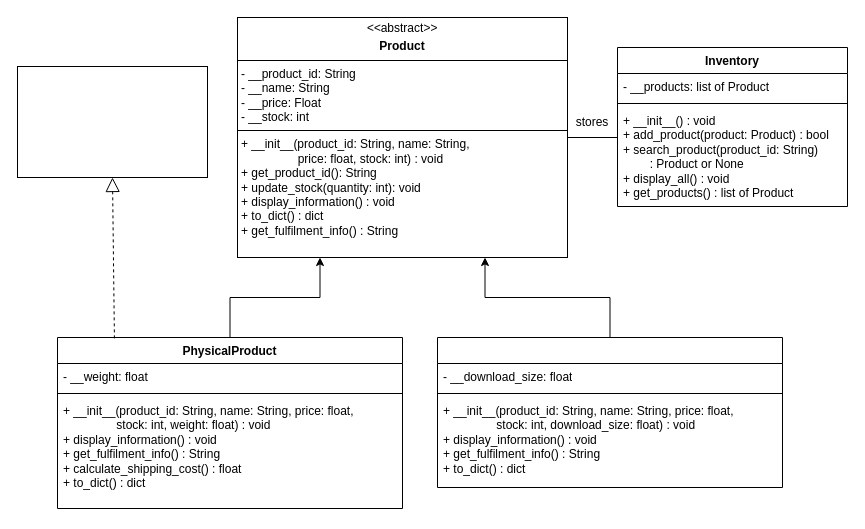
This 865x529 diagram has some shape labels left out. The shapes that lost their labels are listed below. From the top down, each one's box as (x1, y1, x2, y2) in pixels, then its label:
(16, 66, 208, 178): << Interface >> CanBeShipped + calculate_shipping_cost(): float
(436, 336, 782, 488): DigitalProduct
